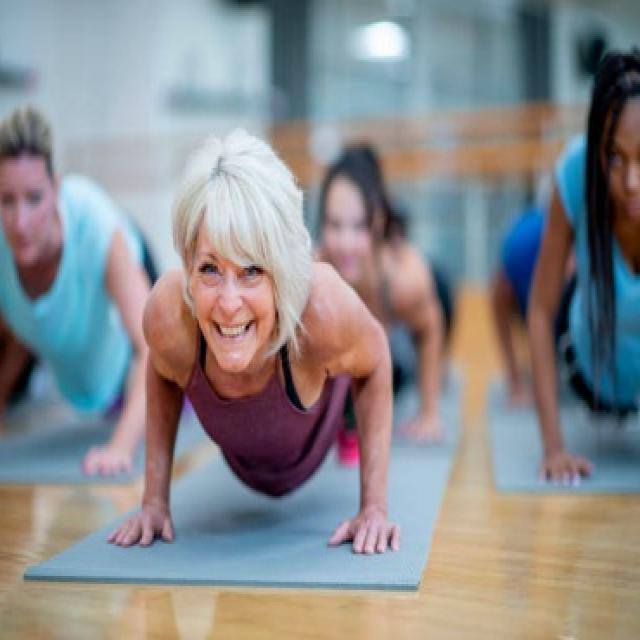adult: (127, 154, 405, 554), (0, 106, 138, 472), (534, 42, 640, 490)
